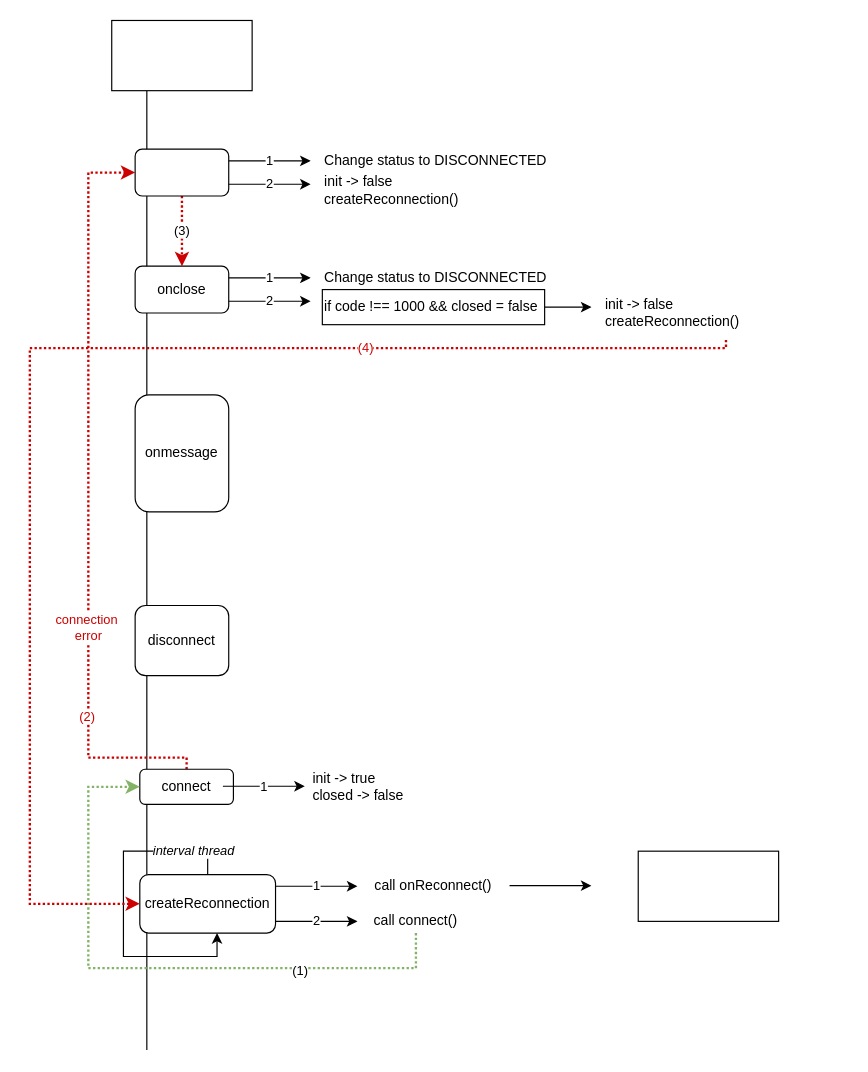
This 868x1072 diagram has some shape labels left out. Each missing label, with the centre of its shape:
"DataSourceHandler onReconnect binding()" belongs at (708,885).
"onerror" belongs at (181,172).
"WebSocketConnector" belongs at (181,55).
